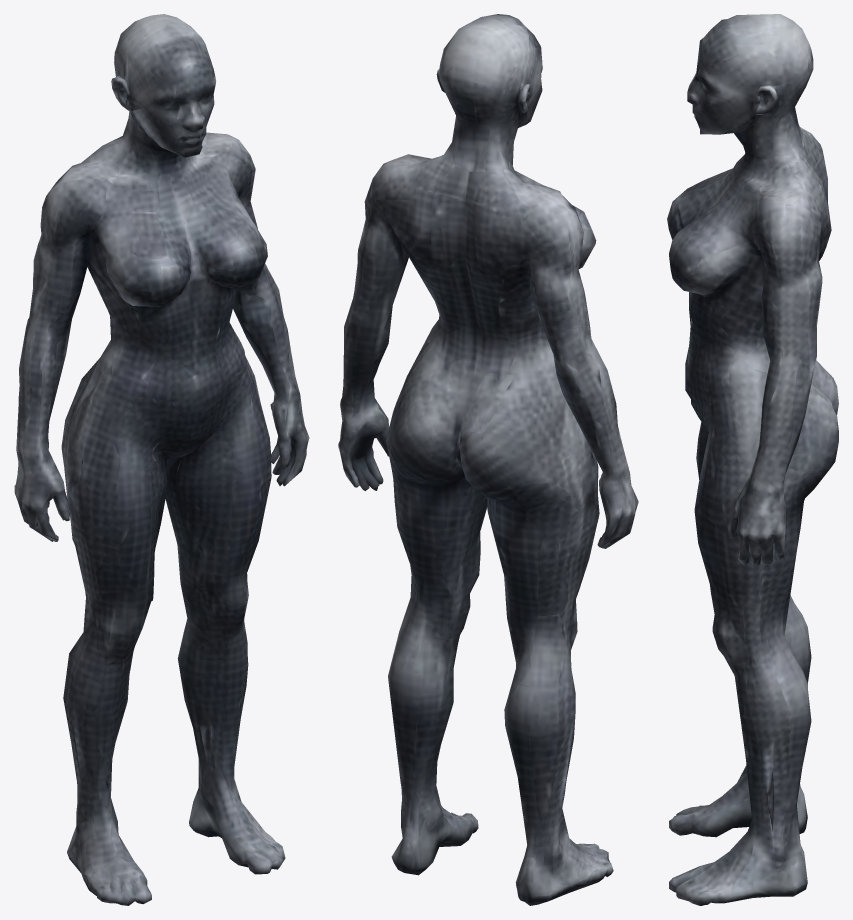
File: timein-anatomy-female-low.glb
3 renders of one model, left to right at view 1: azimuth 30°, elevation 25°; view 2: azimuth 150°, elevation 25°; view 3: azimuth 270°, elevation 25°, orthographic.
Visible parts, largest first — view 1: tripo_node_bd692099-09b5-40d3-9ca3-e2dfbae3fc4f; view 2: tripo_node_bd692099-09b5-40d3-9ca3-e2dfbae3fc4f; view 3: tripo_node_bd692099-09b5-40d3-9ca3-e2dfbae3fc4f.
Part boxes in pixels (x1,y1,x2,y2): tripo_node_bd692099-09b5-40d3-9ca3-e2dfbae3fc4f: (14, 14, 309, 905); tripo_node_bd692099-09b5-40d3-9ca3-e2dfbae3fc4f: (338, 14, 638, 905); tripo_node_bd692099-09b5-40d3-9ca3-e2dfbae3fc4f: (667, 14, 838, 905).
Bounding box in the file's own units: 0.3462 × 0.9775 × 0.1798.
1 material, 1 textured.
